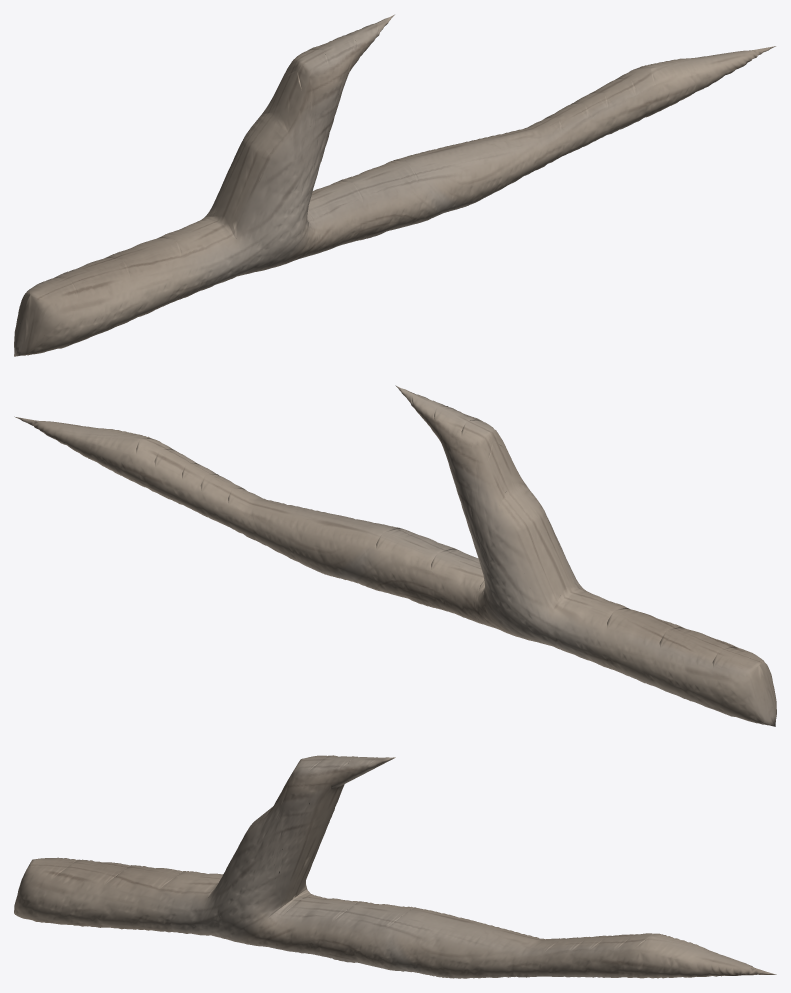
File: roots_LOD2.glb
3 views of the same model, one above another, from view 1: azimuth 30°, elevation 25°; view 2: azimuth 150°, elevation 25°; view 3: azimuth 330°, elevation 25° (orthographic).
Visible parts, largest first — view 1: root__STRUCTURE_LOD2; view 2: root__STRUCTURE_LOD2; view 3: root__STRUCTURE_LOD2.
Boxes of the visible parts, x1,y1,x2,y2 form: root__STRUCTURE_LOD2: (14, 14, 775, 356); root__STRUCTURE_LOD2: (14, 385, 776, 726); root__STRUCTURE_LOD2: (14, 755, 776, 978).
Bounding box in the file's own units: 3.2 × 1 × 0.38.
1 material, 1 textured.
